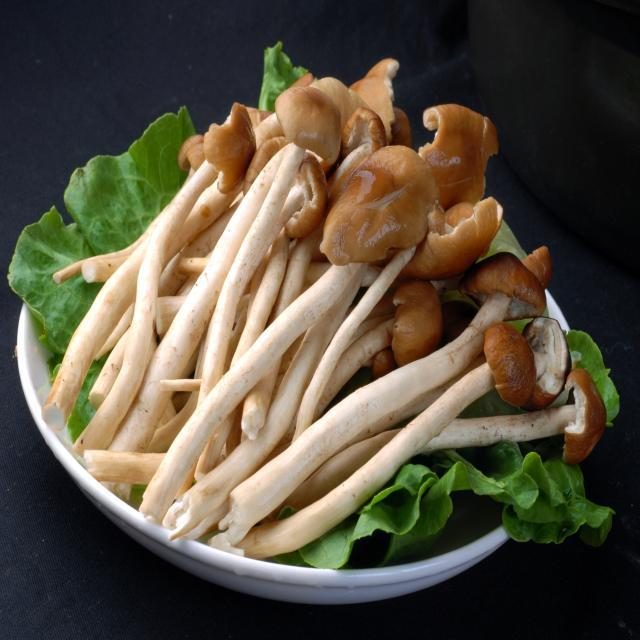Agrocybe aegerita: (57, 69, 599, 560)
